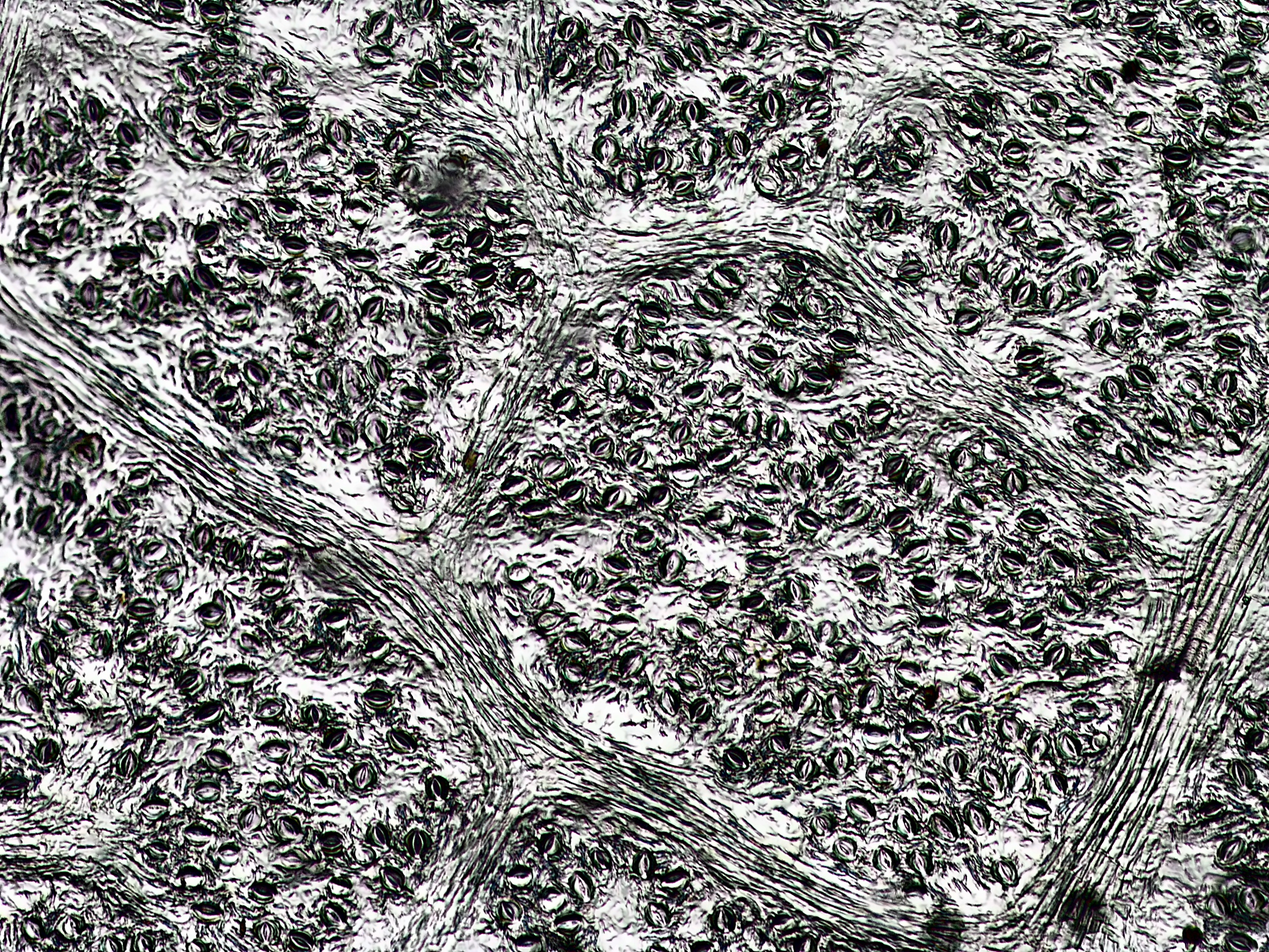stomata: (805, 21, 838, 53), (568, 870, 594, 907), (707, 264, 747, 288), (911, 576, 941, 608), (258, 546, 292, 573), (643, 901, 674, 930), (932, 219, 960, 251), (404, 828, 431, 861), (592, 134, 620, 165), (658, 550, 686, 581), (843, 499, 875, 526), (682, 338, 711, 367), (1225, 226, 1256, 253), (173, 866, 206, 891), (534, 888, 567, 913), (626, 13, 650, 47), (1090, 518, 1124, 542), (633, 846, 655, 883), (41, 110, 70, 138), (1042, 643, 1071, 671), (948, 446, 978, 473), (991, 857, 1018, 887), (1217, 836, 1247, 863), (1237, 885, 1264, 915), (387, 728, 417, 755), (647, 91, 673, 122), (964, 804, 990, 835), (13, 688, 44, 714), (1052, 181, 1084, 206), (695, 134, 719, 167), (606, 613, 639, 637), (332, 421, 359, 450), (617, 325, 644, 354), (981, 436, 1010, 463), (628, 524, 657, 551), (366, 9, 392, 39), (845, 797, 875, 823), (275, 849, 312, 870), (467, 263, 498, 288), (816, 458, 847, 483), (741, 516, 772, 541), (988, 652, 1019, 677), (1017, 509, 1050, 532), (1153, 247, 1181, 274), (1219, 256, 1247, 283), (930, 814, 958, 841), (56, 912, 84, 939), (162, 632, 189, 660), (483, 200, 512, 226), (1128, 364, 1157, 390), (676, 616, 705, 642), (958, 673, 984, 702), (299, 766, 328, 792), (1228, 101, 1258, 126), (828, 748, 853, 778), (540, 457, 571, 481), (980, 764, 1004, 795), (269, 199, 301, 222), (446, 24, 478, 47), (1040, 282, 1067, 309), (896, 661, 923, 688), (711, 906, 738, 933), (619, 650, 645, 678), (378, 460, 407, 485), (873, 845, 898, 874), (182, 822, 211, 847), (140, 538, 169, 563), (766, 414, 790, 444), (694, 290, 724, 314), (1236, 21, 1266, 45), (955, 492, 985, 516), (916, 616, 952, 636), (759, 90, 782, 121), (407, 435, 438, 458), (705, 448, 737, 470), (364, 420, 390, 447), (650, 346, 677, 372), (1100, 376, 1126, 403), (1002, 138, 1028, 165), (986, 599, 1013, 625), (364, 636, 391, 662), (726, 130, 751, 158), (601, 484, 626, 512), (224, 665, 259, 685), (348, 198, 372, 227), (1036, 237, 1065, 261), (943, 748, 967, 777), (825, 692, 849, 721), (322, 902, 346, 931), (140, 799, 169, 823), (317, 298, 340, 328), (748, 346, 778, 369), (1009, 763, 1032, 793), (860, 682, 883, 712), (352, 762, 375, 792), (613, 89, 635, 120), (360, 296, 386, 322), (1116, 443, 1142, 469), (572, 566, 598, 592), (325, 119, 352, 144), (723, 76, 750, 101), (778, 145, 805, 170), (590, 436, 615, 463), (804, 293, 831, 318), (955, 309, 982, 334), (1086, 72, 1113, 97), (875, 205, 902, 230), (905, 472, 932, 497), (1084, 638, 1111, 663), (316, 367, 337, 399), (737, 409, 761, 437), (1091, 197, 1119, 221), (193, 780, 221, 804), (659, 870, 691, 891), (3, 579, 31, 603), (416, 251, 445, 274), (596, 43, 619, 72), (898, 259, 927, 282), (1073, 416, 1102, 439), (1162, 322, 1191, 345), (893, 809, 916, 838), (261, 740, 290, 763), (248, 881, 277, 904), (363, 45, 393, 67), (1035, 378, 1065, 400), (1161, 145, 1191, 167), (944, 522, 974, 544), (560, 631, 590, 653), (193, 899, 223, 921), (422, 316, 453, 337), (498, 476, 529, 497), (251, 698, 282, 719), (94, 196, 120, 221), (243, 410, 269, 435), (553, 390, 578, 416), (1012, 281, 1038, 306), (832, 836, 858, 861), (907, 848, 932, 874), (681, 98, 705, 125), (1001, 470, 1028, 494), (814, 618, 838, 645), (918, 780, 942, 807), (497, 899, 521, 926), (305, 147, 333, 170), (231, 201, 259, 224), (717, 384, 745, 407), (1203, 293, 1231, 316), (902, 540, 930, 563), (540, 831, 563, 859), (346, 249, 378, 269), (1124, 11, 1156, 31), (802, 368, 831, 390), (1090, 317, 1112, 346), (752, 702, 781, 724), (1023, 797, 1052, 819), (363, 687, 392, 709), (767, 305, 797, 326), (954, 571, 984, 592), (636, 305, 669, 324), (61, 146, 86, 171), (455, 61, 480, 86), (647, 148, 672, 173), (1203, 195, 1228, 220), (511, 268, 537, 292), (866, 401, 892, 425), (961, 262, 987, 286), (1072, 264, 1096, 290), (1203, 120, 1227, 146), (276, 816, 302, 840), (379, 867, 405, 891), (82, 96, 105, 123), (551, 54, 574, 81), (1031, 93, 1058, 116), (1057, 732, 1080, 759), (1027, 735, 1050, 762), (795, 690, 818, 717), (115, 749, 138, 776), (506, 865, 533, 888), (554, 913, 581, 936), (1014, 348, 1045, 368), (193, 520, 213, 551), (605, 369, 627, 397), (1004, 210, 1032, 232), (1081, 544, 1109, 566), (853, 563, 881, 585), (601, 555, 629, 577), (866, 766, 894, 788), (794, 65, 823, 86), (205, 749, 234, 770), (264, 65, 288, 90), (159, 108, 183, 133), (386, 130, 410, 155), (559, 17, 584, 41), (245, 361, 269, 386), (1188, 406, 1212, 431), (1149, 419, 1174, 443), (1127, 112, 1152, 136), (885, 507, 910, 531), (700, 581, 730, 601), (296, 644, 326, 664), (418, 61, 441, 87), (466, 229, 492, 252), (618, 168, 641, 194), (1026, 44, 1052, 67), (957, 116, 983, 139), (1019, 614, 1045, 637), (426, 775, 449, 801), (239, 806, 262, 832), (364, 823, 390, 846), (559, 481, 586, 503), (787, 463, 809, 490), (795, 510, 822, 532), (998, 715, 1020, 742), (536, 610, 567, 629), (1131, 274, 1159, 295), (197, 601, 225, 622), (111, 246, 140, 266), (421, 282, 450, 302), (188, 352, 217, 372), (829, 332, 858, 352), (828, 421, 857, 441), (1103, 231, 1132, 251), (214, 387, 239, 410), (682, 382, 707, 405), (688, 698, 711, 723), (529, 585, 554, 608), (278, 276, 304, 298), (280, 389, 302, 415), (1117, 313, 1143, 335), (1194, 13, 1220, 35), (1229, 761, 1251, 787), (34, 639, 56, 665), (61, 679, 83, 705), (1072, 0, 1099, 21), (676, 669, 703, 690), (659, 688, 680, 715), (1071, 702, 1099, 722), (121, 633, 149, 653), (1221, 57, 1252, 75), (966, 172, 990, 195), (1061, 591, 1084, 615), (714, 675, 738, 698), (797, 757, 820, 781), (723, 747, 747, 770), (324, 608, 348, 631), (22, 918, 46, 941), (217, 842, 241, 865), (279, 107, 308, 126), (418, 198, 447, 217), (133, 287, 152, 316), (93, 628, 112, 657), (470, 312, 495, 334), (807, 98, 832, 120), (856, 156, 878, 181), (1215, 370, 1237, 395), (1000, 551, 1025, 573), (1002, 30, 1027, 52), (1088, 575, 1113, 597), (144, 842, 169, 864), (896, 126, 922, 147), (1178, 231, 1204, 252), (1177, 376, 1203, 397), (1155, 35, 1181, 56), (195, 702, 221, 723), (286, 931, 312, 952), (223, 86, 253, 104), (369, 356, 388, 384), (755, 484, 783, 503), (746, 556, 774, 575), (905, 721, 933, 740), (127, 598, 155, 617), (194, 266, 217, 289), (328, 729, 351, 752), (393, 490, 417, 512), (1231, 403, 1253, 427), (960, 714, 982, 738), (1045, 771, 1067, 795), (39, 739, 61, 763), (669, 176, 694, 197), (1096, 159, 1121, 180), (883, 455, 908, 476), (178, 671, 203, 692), (192, 106, 221, 124), (290, 337, 316, 357), (863, 724, 889, 744), (628, 395, 655, 414), (1207, 894, 1226, 921), (686, 41, 709, 63), (755, 174, 778, 196), (626, 447, 648, 470), (1066, 116, 1089, 138), (776, 368, 797, 392), (1214, 336, 1242, 354), (787, 579, 805, 607), (562, 663, 586, 684), (51, 616, 79, 634), (86, 517, 110, 538), (706, 416, 731, 436), (890, 155, 916, 174), (508, 564, 534, 583), (258, 582, 284, 601), (132, 714, 158, 733), (1227, 934, 1256, 951), (170, 278, 188, 305), (304, 706, 326, 728), (320, 832, 342, 854), (590, 846, 612, 868), (226, 132, 247, 155), (60, 219, 81, 242), (648, 487, 671, 508), (788, 647, 811, 668), (274, 606, 295, 629), (261, 780, 284, 801), (277, 438, 301, 458), (837, 648, 861, 668), (1243, 699, 1267, 719), (282, 237, 307, 256), (428, 358, 453, 377), (1175, 99, 1200, 118), (327, 876, 352, 895), (79, 282, 97, 308), (612, 584, 638, 602), (159, 568, 181, 589), (310, 188, 333, 208), (658, 52, 681, 72), (107, 157, 130, 177), (810, 816, 833, 836), (223, 305, 250, 322), (1048, 550, 1072, 569), (742, 594, 766, 613), (116, 123, 137, 144), (577, 356, 598, 377), (671, 421, 691, 443), (970, 92, 992, 112), (265, 161, 288, 180), (744, 29, 763, 52), (960, 14, 983, 33), (194, 225, 219, 242), (237, 261, 262, 278), (128, 471, 150, 490), (400, 387, 426, 403), (225, 540, 241, 566), (706, 18, 730, 35), (768, 736, 790, 754), (73, 586, 99, 601), (214, 34, 238, 50), (782, 262, 806, 278), (255, 922, 274, 942), (199, 3, 224, 18), (177, 66, 194, 88), (200, 57, 222, 74), (1168, 201, 1188, 219), (723, 645, 741, 665), (111, 496, 128, 517), (355, 164, 378, 179), (503, 595, 521, 614), (1255, 732, 1269, 751)
